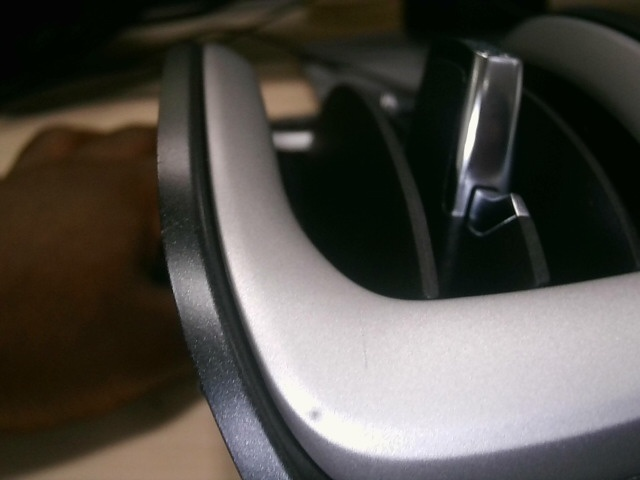NG: (352, 314, 381, 374), (156, 206, 188, 259)
